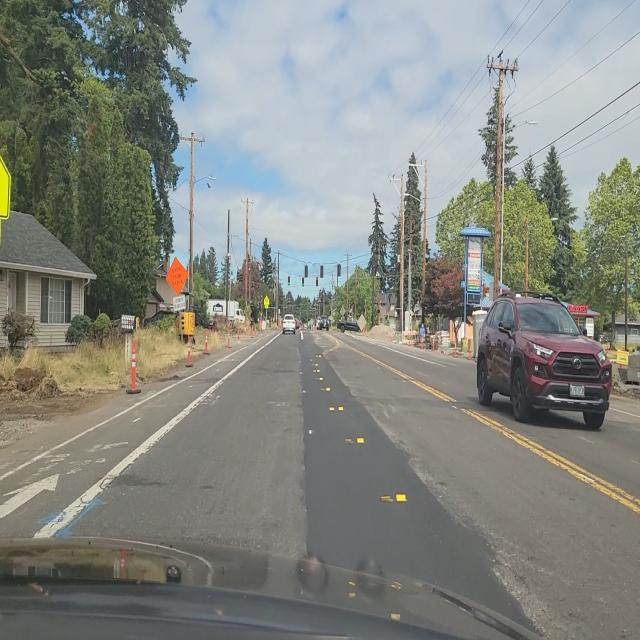car: (472, 289, 612, 429), (282, 314, 296, 334), (338, 320, 360, 332), (317, 315, 330, 331), (205, 319, 219, 332), (295, 320, 300, 329)
crosswalk-sign: (264, 296, 269, 306)
delineator: (126, 336, 142, 395), (185, 335, 194, 367), (203, 331, 210, 355), (227, 328, 231, 348), (468, 342, 472, 360), (237, 324, 241, 340), (250, 323, 253, 338), (362, 328, 367, 336), (260, 321, 263, 334), (454, 346, 457, 358), (389, 332, 392, 342)
